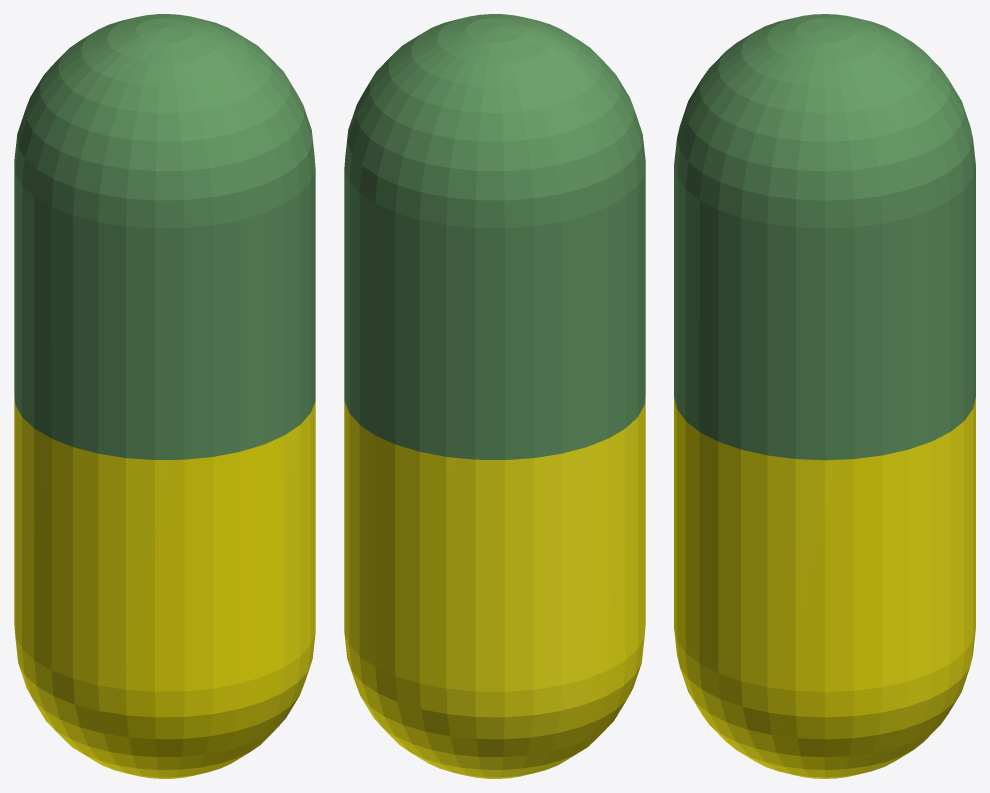
The model's file is Pilule2.fbx.
3 views of the same model, side by side, from view 1: azimuth 30°, elevation 25°; view 2: azimuth 150°, elevation 25°; view 3: azimuth 270°, elevation 25° (orthographic).
Visible parts, largest first — view 1: Sphere.004; view 2: Sphere.004; view 3: Sphere.004.
Part boxes in pixels (box(x1,y1,x2,y2)): Sphere.004: box(14, 14, 315, 778); Sphere.004: box(344, 14, 645, 778); Sphere.004: box(674, 14, 975, 778).
Size of the model in its own units: 87.1 by 235 by 87.1.
